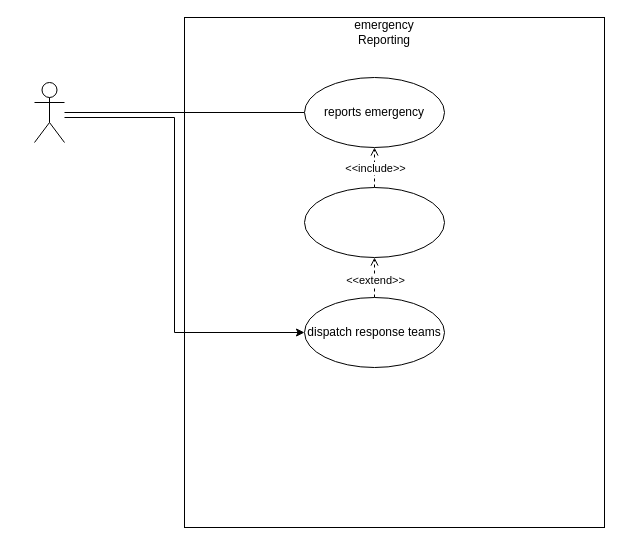
This 622x545 diagram has some shape labels left out. The shapes that lost their labels are listed below. From the top down, each one's centre as x and y in pixels, then its label:
At point (49, 112): "Emergency Response".
At point (374, 222): "notify all users".
